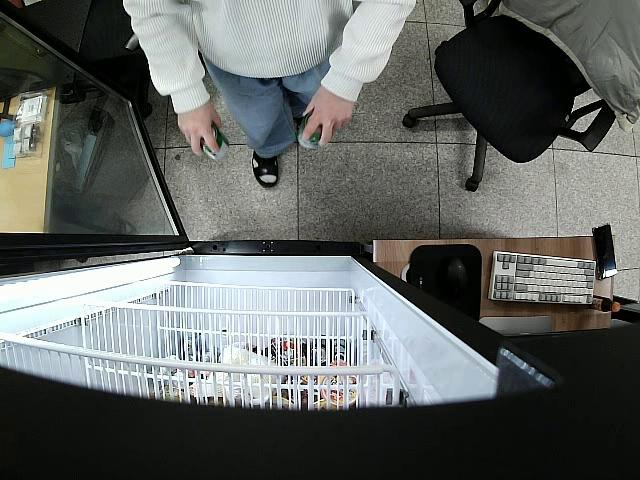00_hand: (301, 82, 357, 150), (176, 100, 222, 158)
12_chilsungCider: (201, 123, 231, 163), (297, 115, 321, 149)
